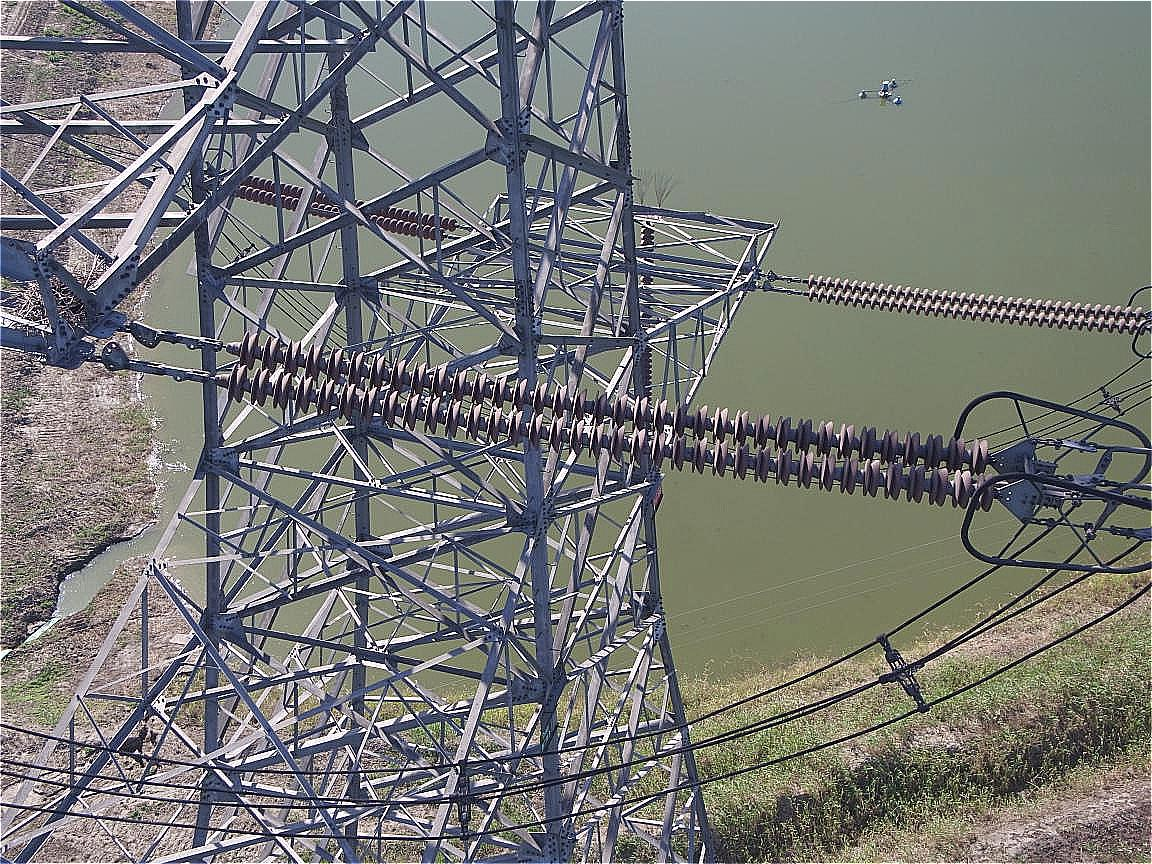insultor1: (797, 250, 1152, 354)
insultor2: (198, 320, 1000, 531)
